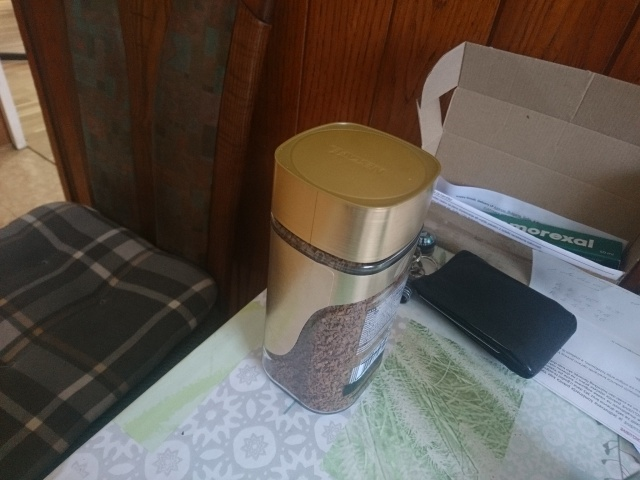Nescafe Gold 225g: (257, 118, 444, 418)
